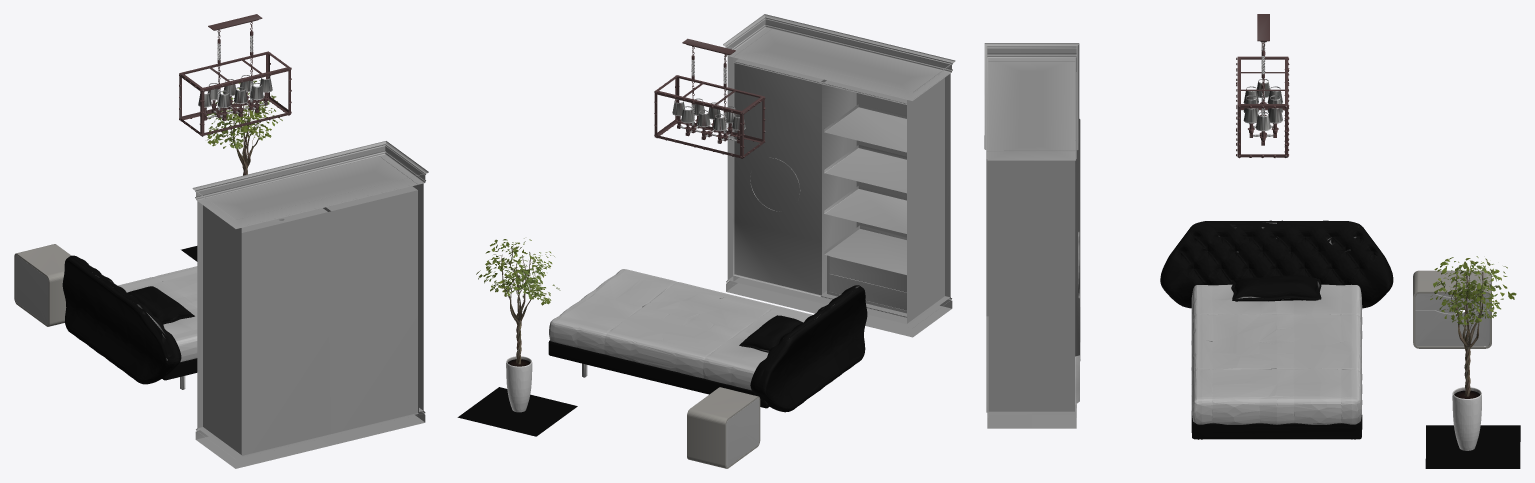
The model's file is gallery-front-bedroom-1381-lowres.glb.
3 views of the same model, side by side, from view 1: azimuth 30°, elevation 25°; view 2: azimuth 150°, elevation 25°; view 3: azimuth 270°, elevation 25° (orthographic). The views are drawn at different scales.
Visible parts, largest first — view 1: assembled_scene; view 2: assembled_scene; view 3: assembled_scene.
Part boxes in pixels (<box>): assembled_scene: <box>14,14,428,468</box>; assembled_scene: <box>457,14,955,468</box>; assembled_scene: <box>984,14,1520,468</box>.
Size of the model in its own units: 0.873 by 1.02 by 1.35.
